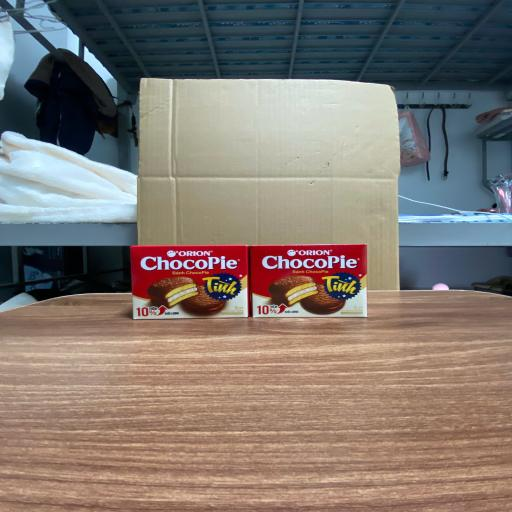chocopie: (131, 244, 248, 319), (251, 245, 367, 318)
